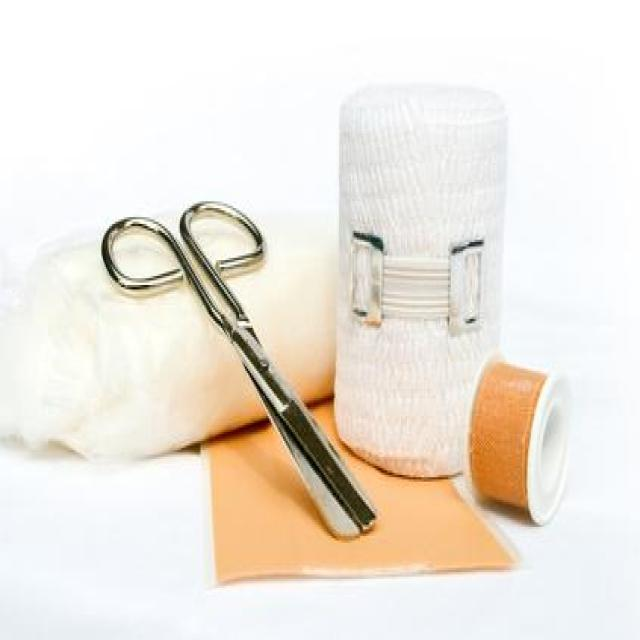B3: (88, 183, 381, 568), (326, 56, 518, 488)
